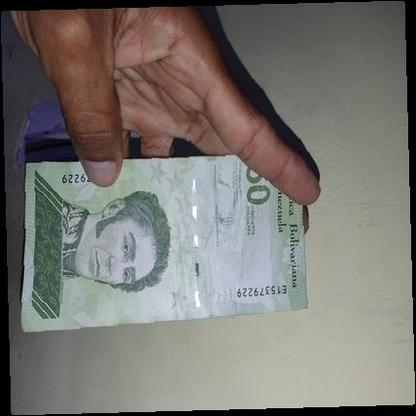fifty-front-vef: (20, 154, 308, 334)
